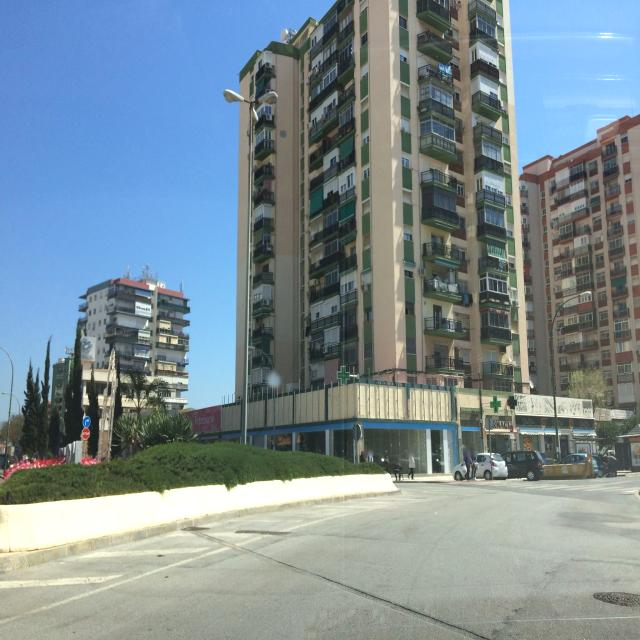car: (503, 450, 546, 480), (466, 452, 508, 480), (557, 453, 600, 479)
